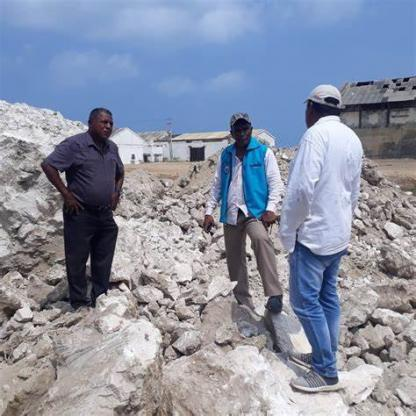person: (277, 66, 374, 390), (192, 87, 279, 343), (32, 92, 130, 312)
